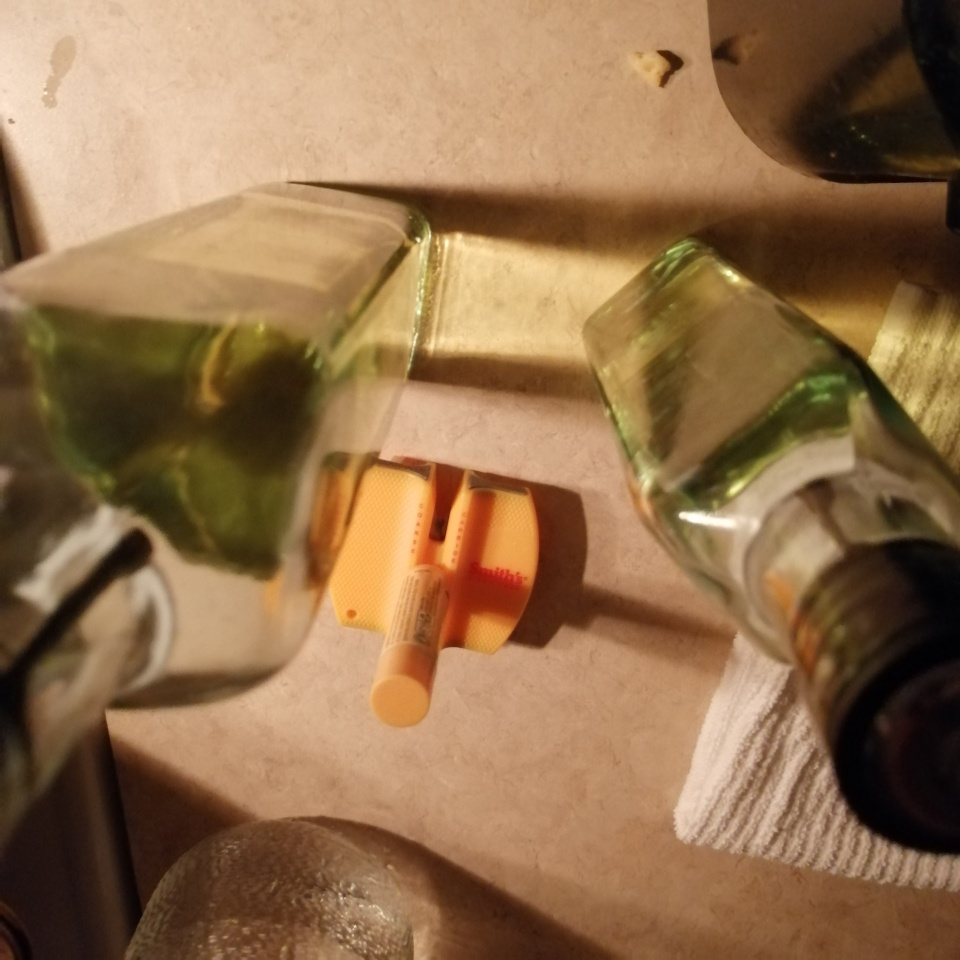chapstick: (370, 564, 450, 729)
